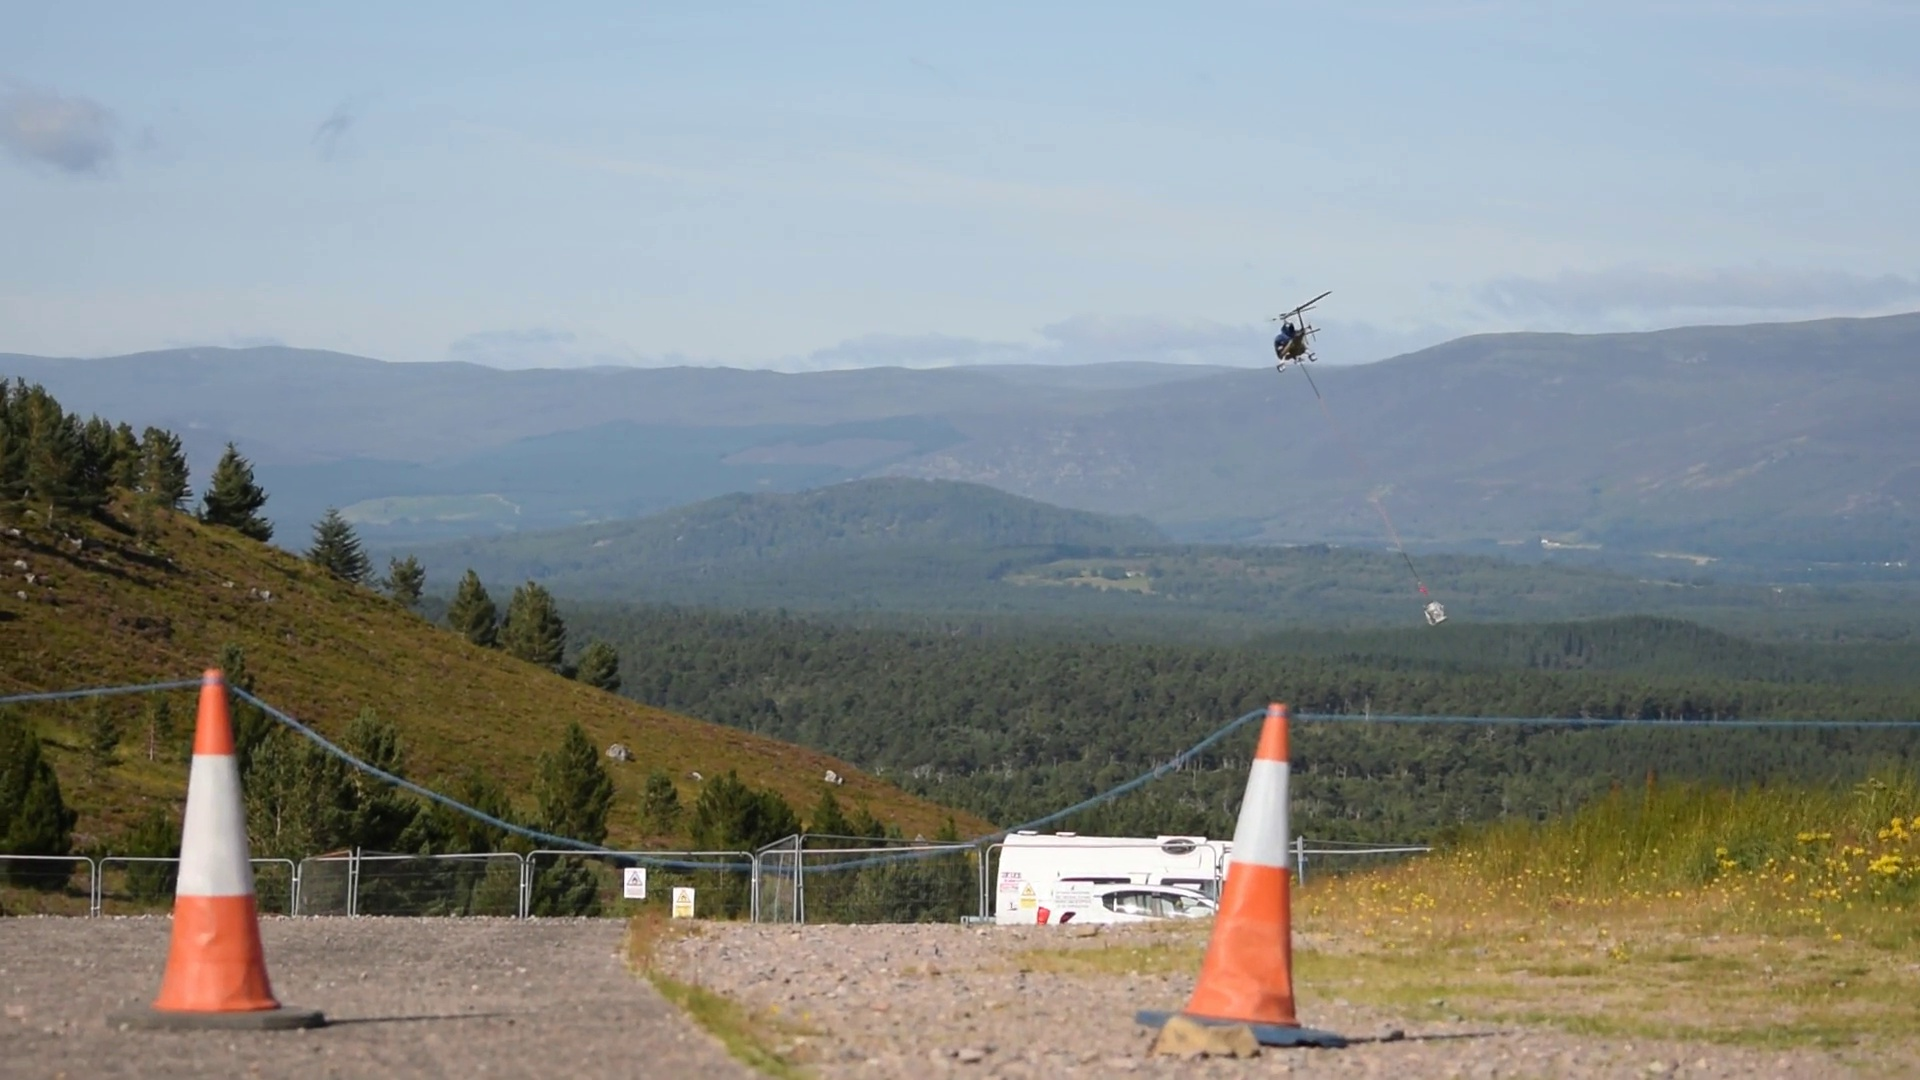heli: (1265, 286, 1332, 375)
